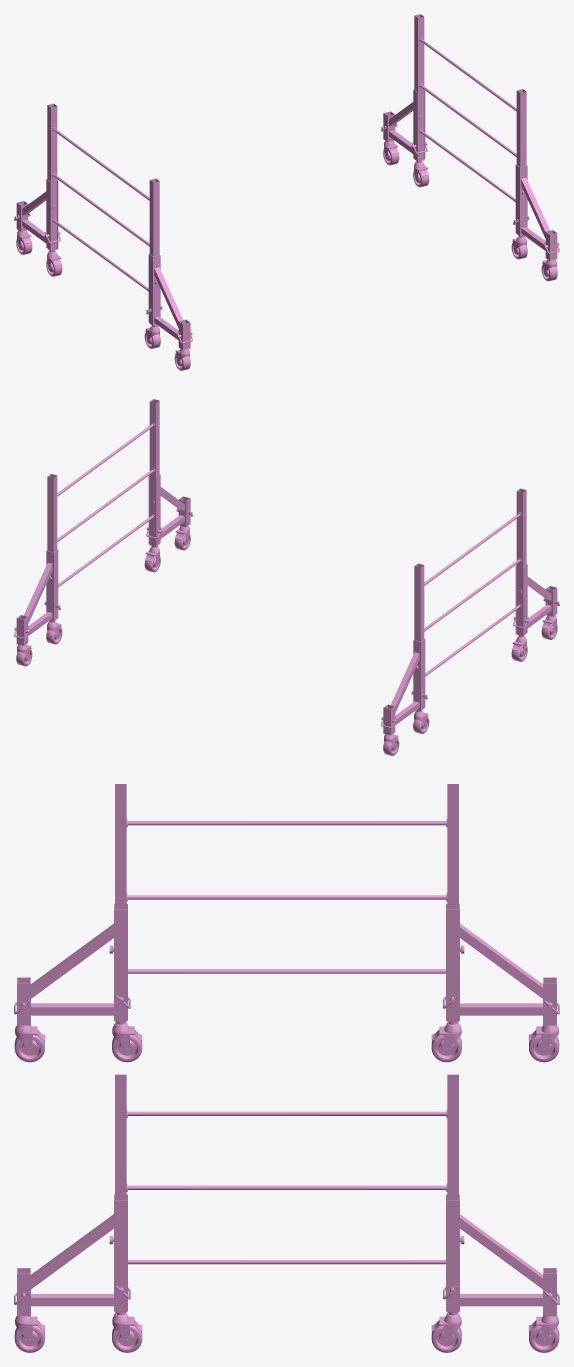
File: SM_RollingScaffoldsBot.fbx
3 views of the same model, one above another, from view 1: azimuth 30°, elevation 25°; view 2: azimuth 150°, elevation 25°; view 3: azimuth 270°, elevation 25° (orthographic). The views are drawn at different scales.
Visible parts, largest first — view 1: RollingScaffoldsBot; view 2: RollingScaffoldsBot; view 3: RollingScaffoldsBot.
Boxes of the visible parts, left/top/right/bottom form: RollingScaffoldsBot: left=14, top=14, right=559, bottom=370; RollingScaffoldsBot: left=14, top=399, right=559, bottom=755; RollingScaffoldsBot: left=14, top=784, right=559, bottom=1352.
Size of the model in its own units: 306 by 129 by 233.
